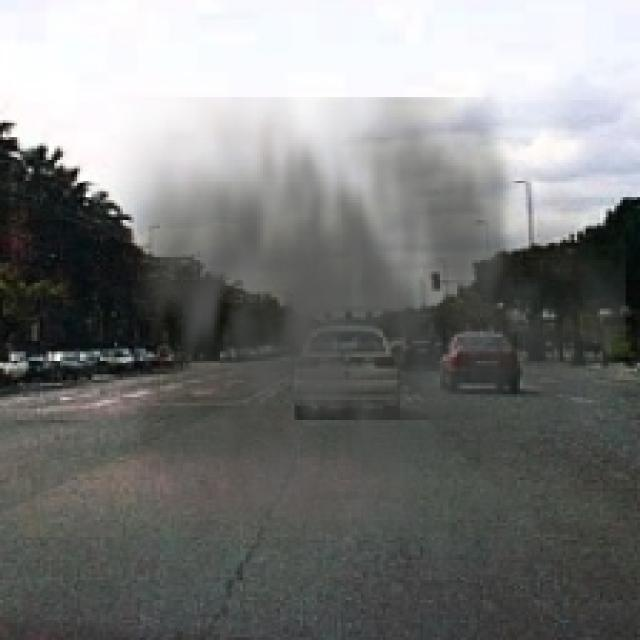Smoke: (97, 97, 626, 634)
